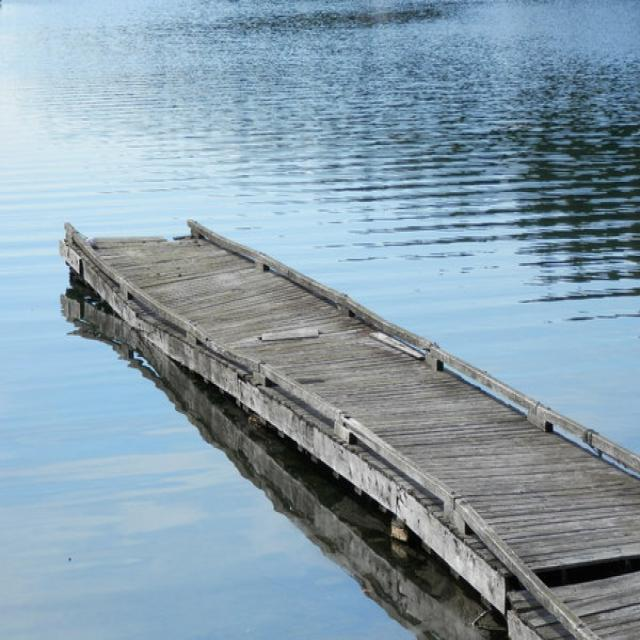Woods: (59, 222, 640, 640)
